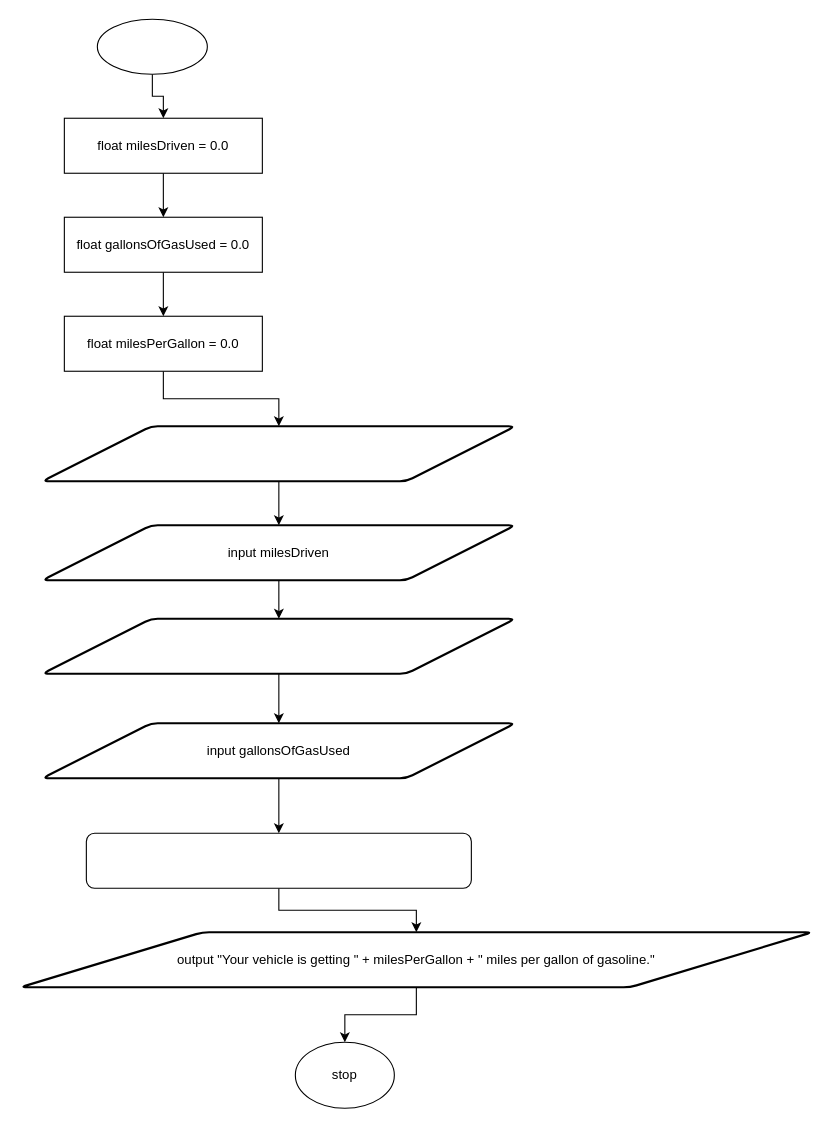
Image size: 832x1128. Some labels were removed from this diagram. Here are the shapes that lost their labels. From the top down, the centre of each, then its label:
point 151,46: start
point 278,453: output "How many miles did you drive today?"
point 278,645: output "How many gallons of gas did you use today?
point 278,860: milesPerGallon = milesDriven / gallonsOfGasUsed
